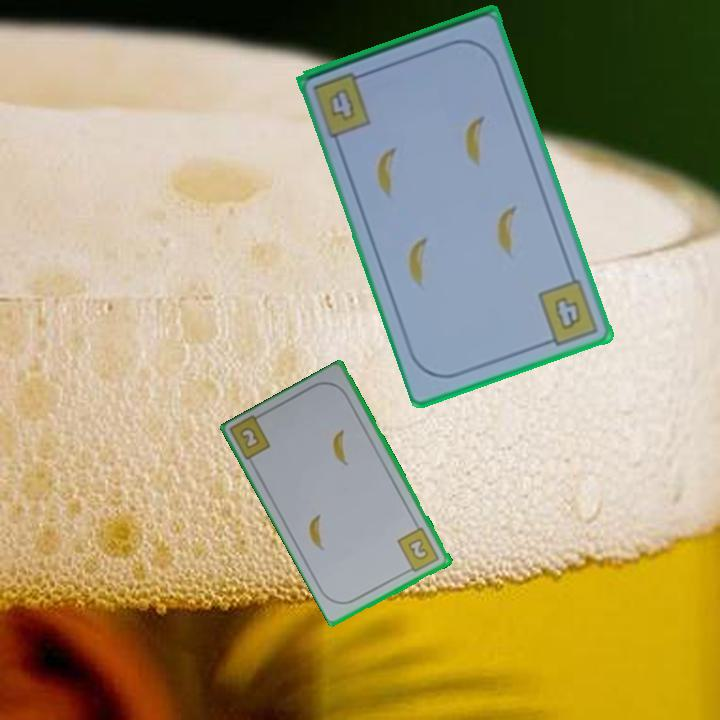2b: (394, 524, 442, 576), (238, 426, 260, 450)
4b: (534, 276, 602, 349), (325, 84, 359, 125)
